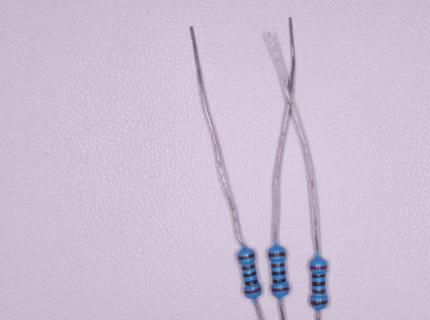Black band: (243, 271, 257, 278), (245, 279, 258, 286), (272, 271, 286, 276), (312, 281, 326, 286), (272, 279, 286, 283), (312, 274, 326, 278)
Brown band: (238, 254, 255, 261), (269, 251, 286, 257), (242, 264, 255, 271), (271, 263, 285, 268), (311, 301, 327, 305), (312, 289, 326, 293)
Red band: (244, 288, 261, 295), (310, 266, 327, 270), (272, 288, 289, 292)
